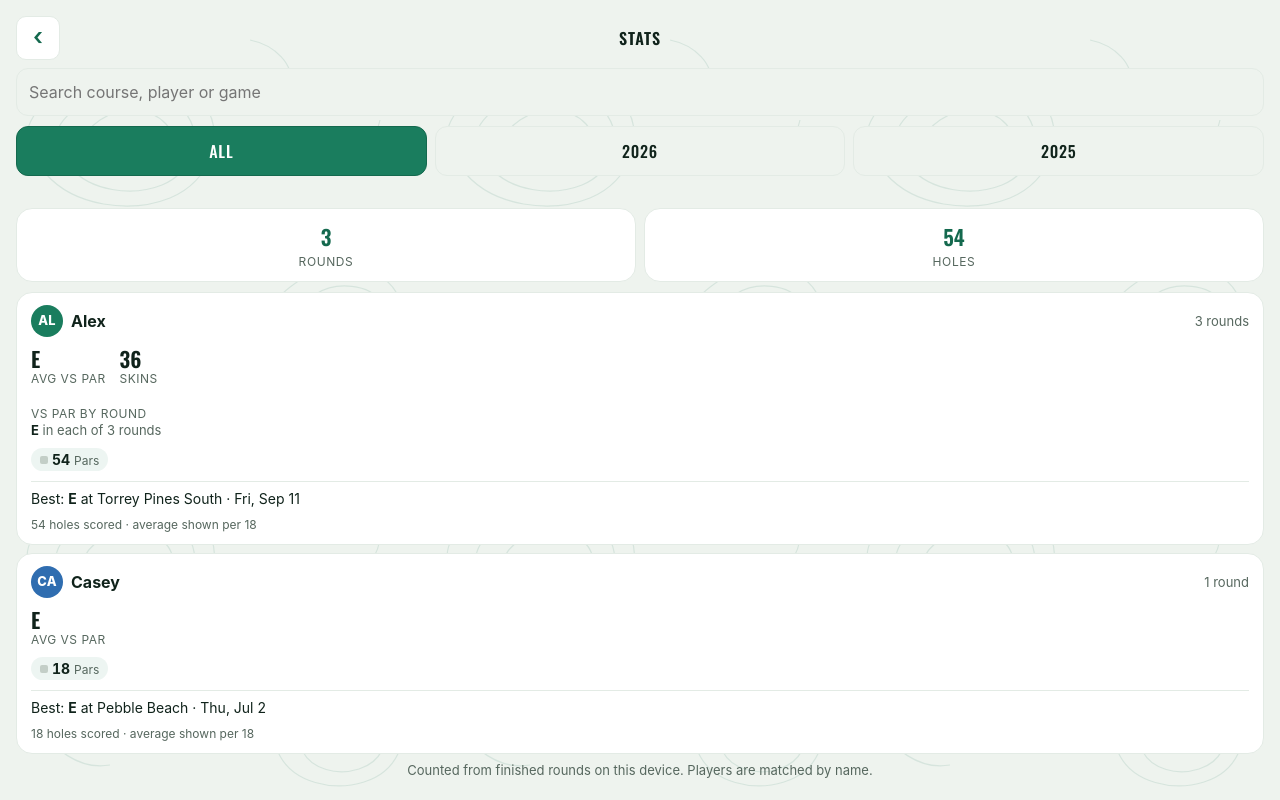
filtering the stats › recomputes the figures from the rounds a search leaves
Type "pebble" into the search field named "Search rounds" at [640, 92], box [16,68,1264,116]
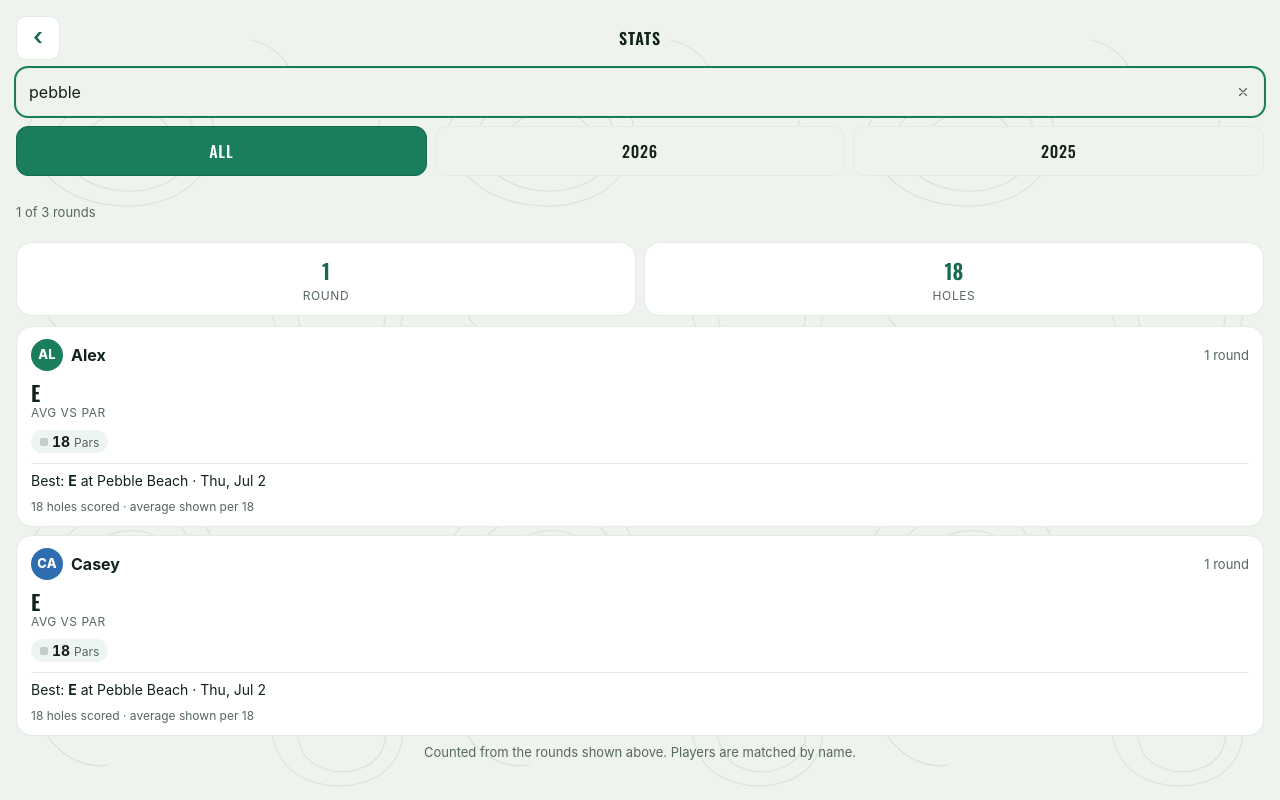
Result: the element with class "stat-sum" shows "1" at [322,255,330,286]
Result: the text "1 of 3 rounds" is shown at [16,204,96,220]
Result: the text with class "hint" shows "the rounds shown above" at [424,744,856,760]
